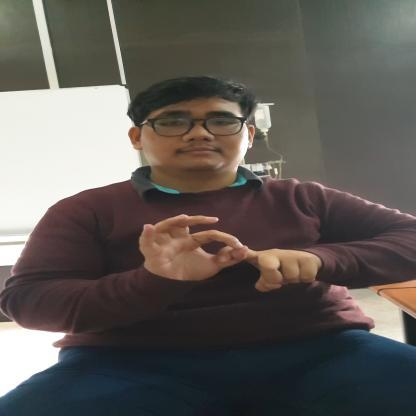Q: (136, 212, 326, 294)
